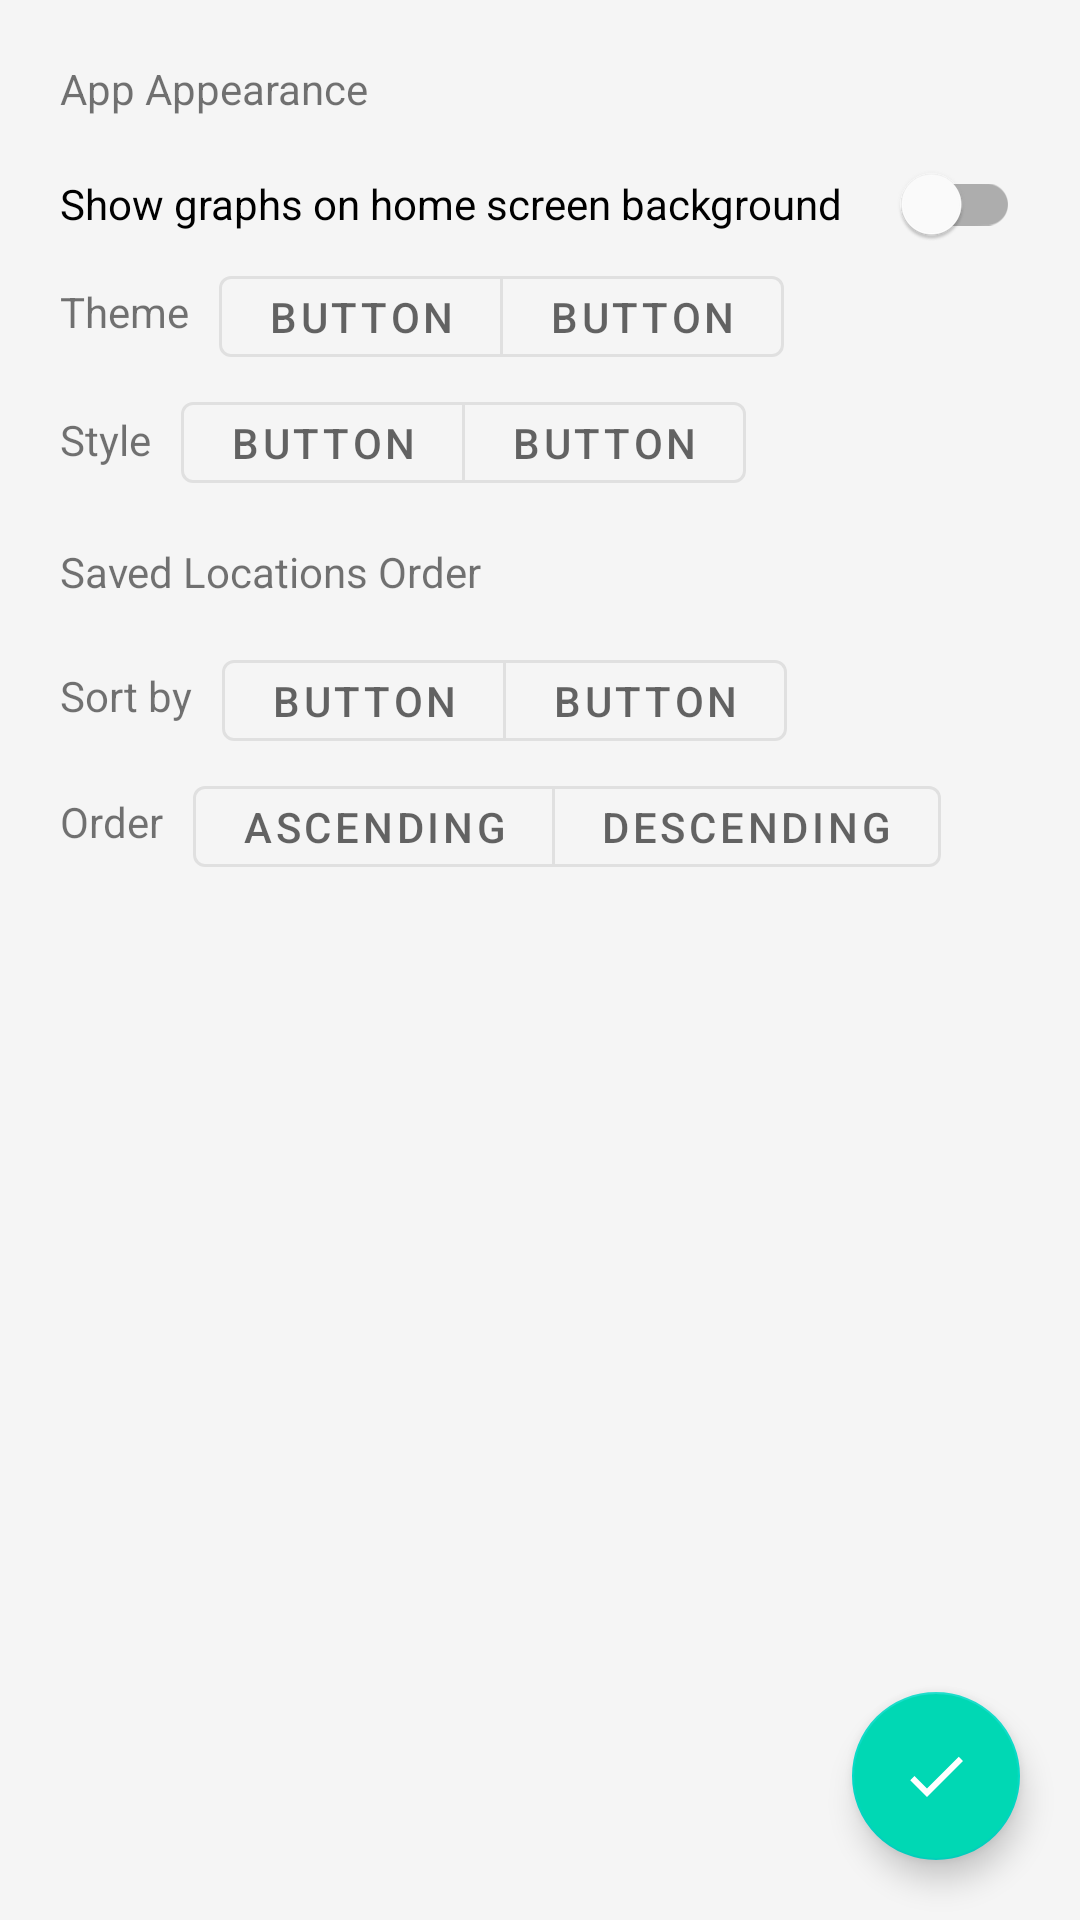

Point at icon controls on the screen. Image size 1080 x 1920, points as (x,y).
check: (936,1776)
